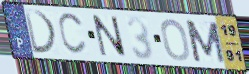3: (126, 14, 155, 61)
C: (56, 11, 89, 57)
D: (23, 8, 59, 55)
M: (183, 18, 228, 65)
N: (90, 13, 129, 59)
O: (159, 17, 192, 63)
